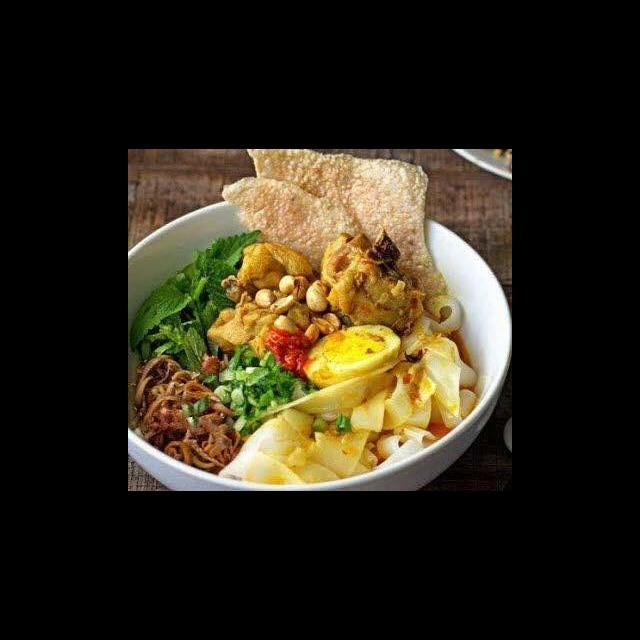banh da: (244, 150, 451, 304), (219, 173, 375, 278)
mi: (214, 356, 441, 487), (389, 293, 481, 436)
thit heo: (317, 226, 428, 340), (201, 287, 326, 368), (219, 239, 322, 329)
trung: (300, 322, 403, 394)
